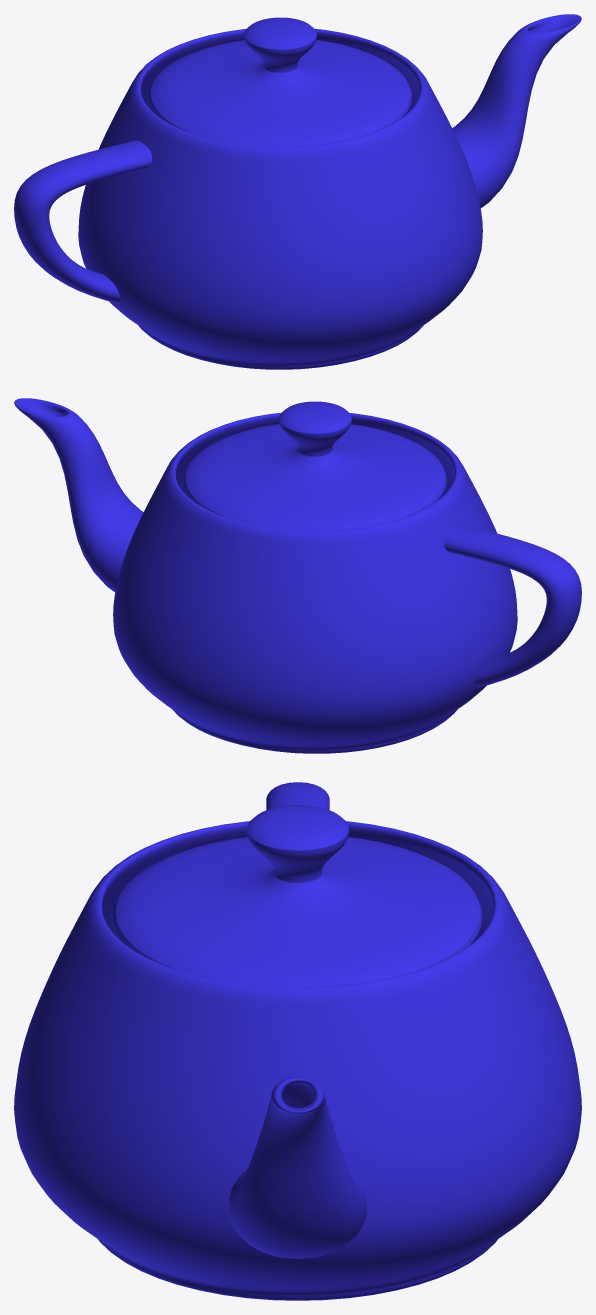
Rendered from teapot.glb.
The picture shows the model from 3 angles, top to bottom: view 1: azimuth 30°, elevation 25°; view 2: azimuth 150°, elevation 25°; view 3: azimuth 270°, elevation 25°; orthographic projection. The views are drawn at different scales.
Visible parts, largest first — view 1: Teapot; view 2: Teapot; view 3: Teapot.
Boxes of the visible parts, box(x1,y1,x2,y2) form: Teapot: box(14, 14, 581, 369); Teapot: box(14, 398, 581, 753); Teapot: box(14, 782, 581, 1300).
Size of the model in its own units: 6.43 by 3.15 by 4.
